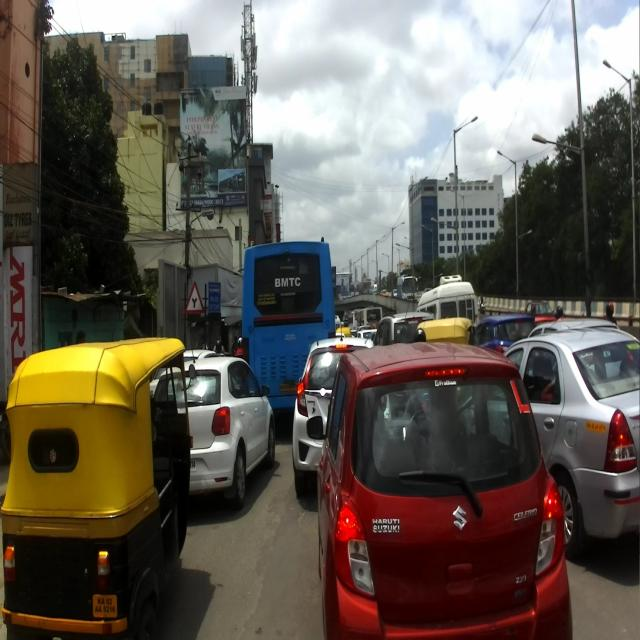Car_Maruti-Suzuki: (306, 340, 573, 639)
Car_Toyota: (503, 327, 639, 558)
Car_Volkswagen: (153, 340, 275, 512)
autorickshaw: (2, 335, 196, 639)
bus: (241, 240, 333, 353)
